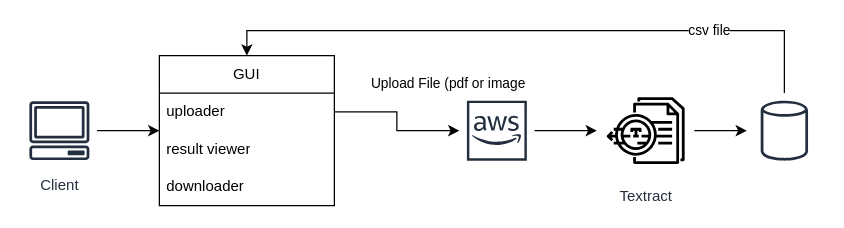
Image size: 844x228. Some labels were removed from this diagram. The shapes that lost their labels are listed below. From the top down, each one's centre as x and y in pixels, then its label:
At (496,130): "AWS Cloud".
At (784,130): "AWS S3".
